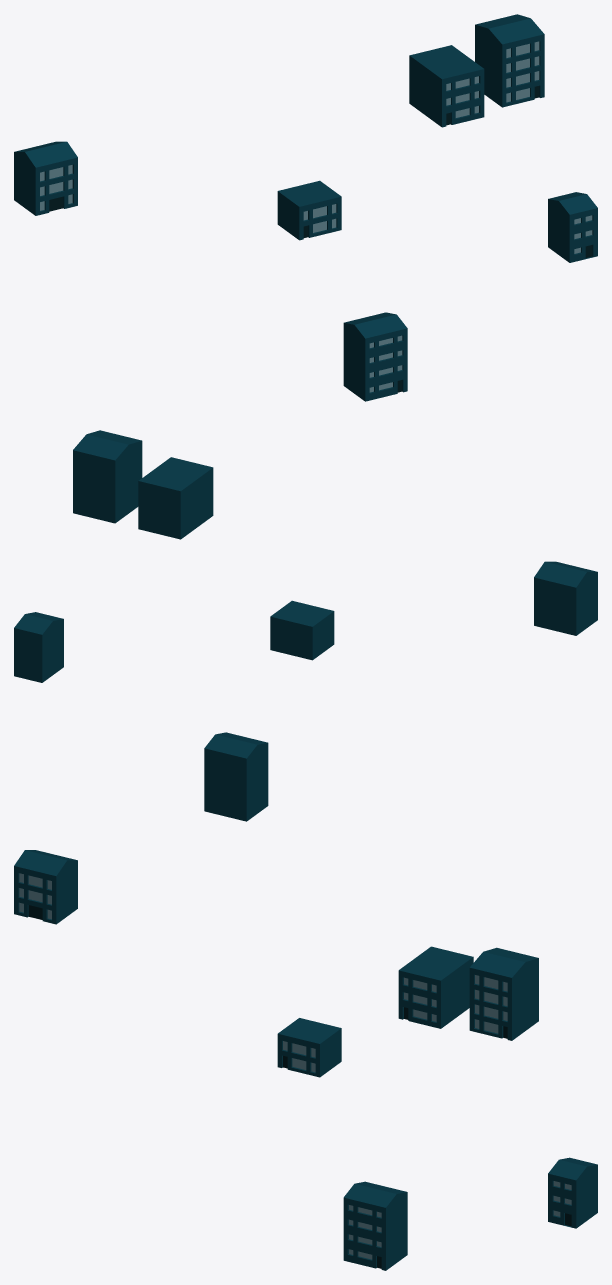
Rendered from BinaGrup10.gltf.
3 renders of one model, top to bottom at view 1: azimuth 30°, elevation 25°; view 2: azimuth 150°, elevation 25°; view 3: azimuth 330°, elevation 25°, orthographic.
Parts seen in each view (by area): view 1: Building_061.016, Building_072.014, Building_065.016, Building_023.016, Building_081.014, Building_052.016, Building_072.015, Building_023.017, Building_065.017, Building_061.017; view 2: Building_072.014, Building_061.016, Building_065.016, Building_023.016, Building_052.016, Building_081.014; view 3: Building_072.014, Building_061.016, Building_065.016, Building_023.016, Building_081.014, Building_052.016, Building_072.015, Building_023.017.
Boxes of the visible parts, x1,y1,x2,y2 form: Building_061.016: [343, 312, 407, 401]; Building_072.014: [475, 14, 544, 107]; Building_065.016: [409, 45, 484, 127]; Building_023.016: [14, 141, 77, 215]; Building_081.014: [548, 192, 597, 262]; Building_052.016: [277, 180, 341, 240]; Building_072.015: [506, 41, 539, 102]; Building_023.017: [40, 165, 72, 210]; Building_065.017: [446, 76, 478, 117]; Building_061.017: [369, 335, 402, 392]; Building_072.014: [73, 430, 142, 523]; Building_061.016: [204, 732, 268, 821]; Building_065.016: [138, 457, 213, 539]; Building_023.016: [534, 561, 597, 635]; Building_052.016: [270, 600, 334, 660]; Building_081.014: [14, 612, 63, 682]; Building_072.014: [469, 947, 538, 1040]; Building_061.016: [343, 1181, 407, 1270]; Building_065.016: [398, 946, 473, 1028]; Building_023.016: [14, 850, 77, 924]; Building_081.014: [548, 1157, 597, 1228]; Building_052.016: [277, 1018, 341, 1077]; Building_072.015: [475, 975, 507, 1033]; Building_023.017: [19, 873, 51, 919].
Bounding box in the file's own units: 0.6491 × 0.3696 × 0.0652.
